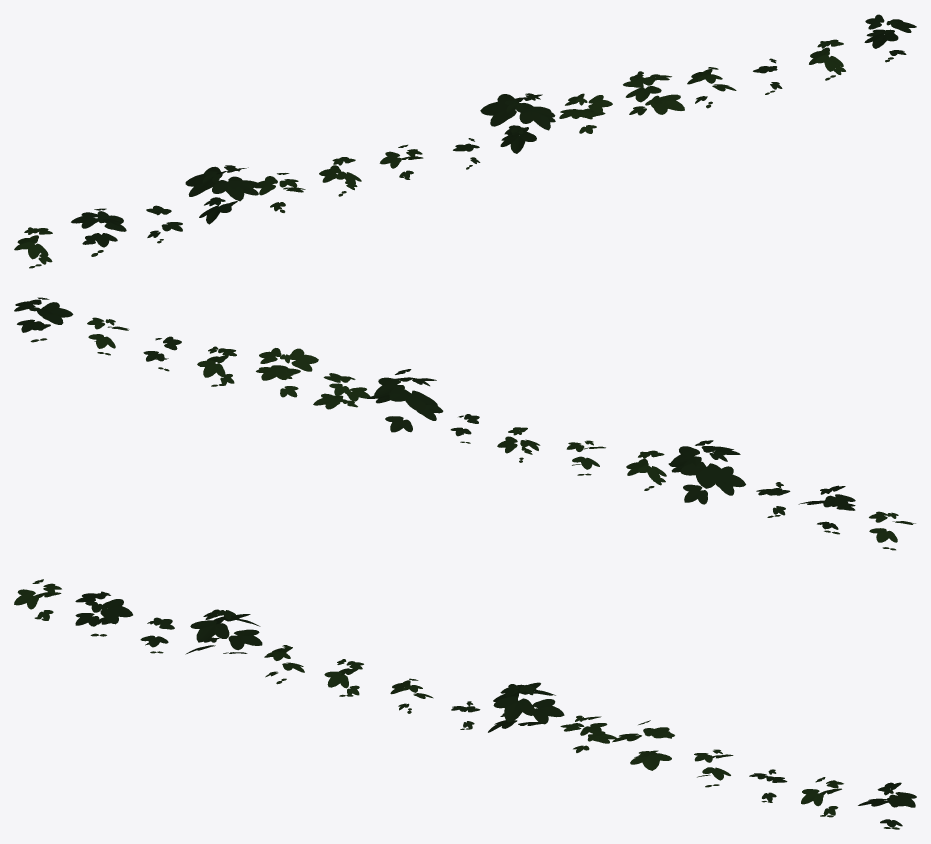
File: ROW_19_SEG1_foliage.dae
The picture shows the model from 3 angles, top to bottom: view 1: azimuth 30°, elevation 25°; view 2: azimuth 150°, elevation 25°; view 3: azimuth 330°, elevation 25°; orthographic projection.
Parts seen in each view (by area): view 1: ROW_19_SEG1_foliage; view 2: ROW_19_SEG1_foliage; view 3: ROW_19_SEG1_foliage.
Boxes of the visible parts, x1,y1,x2,y2 form: ROW_19_SEG1_foliage: (14, 14, 916, 268); ROW_19_SEG1_foliage: (14, 297, 915, 550); ROW_19_SEG1_foliage: (14, 579, 916, 829).
Bounding box in the file's own units: 4.51 × 0.3541 × 0.2865.
